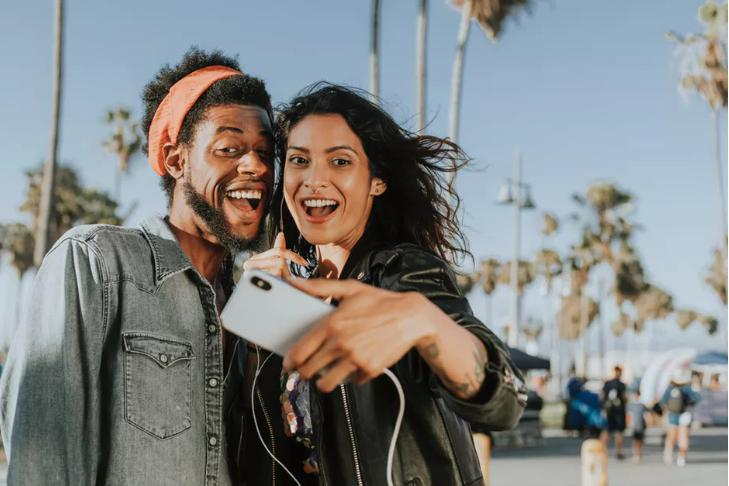face: (189, 105, 272, 244), (284, 118, 366, 242)
